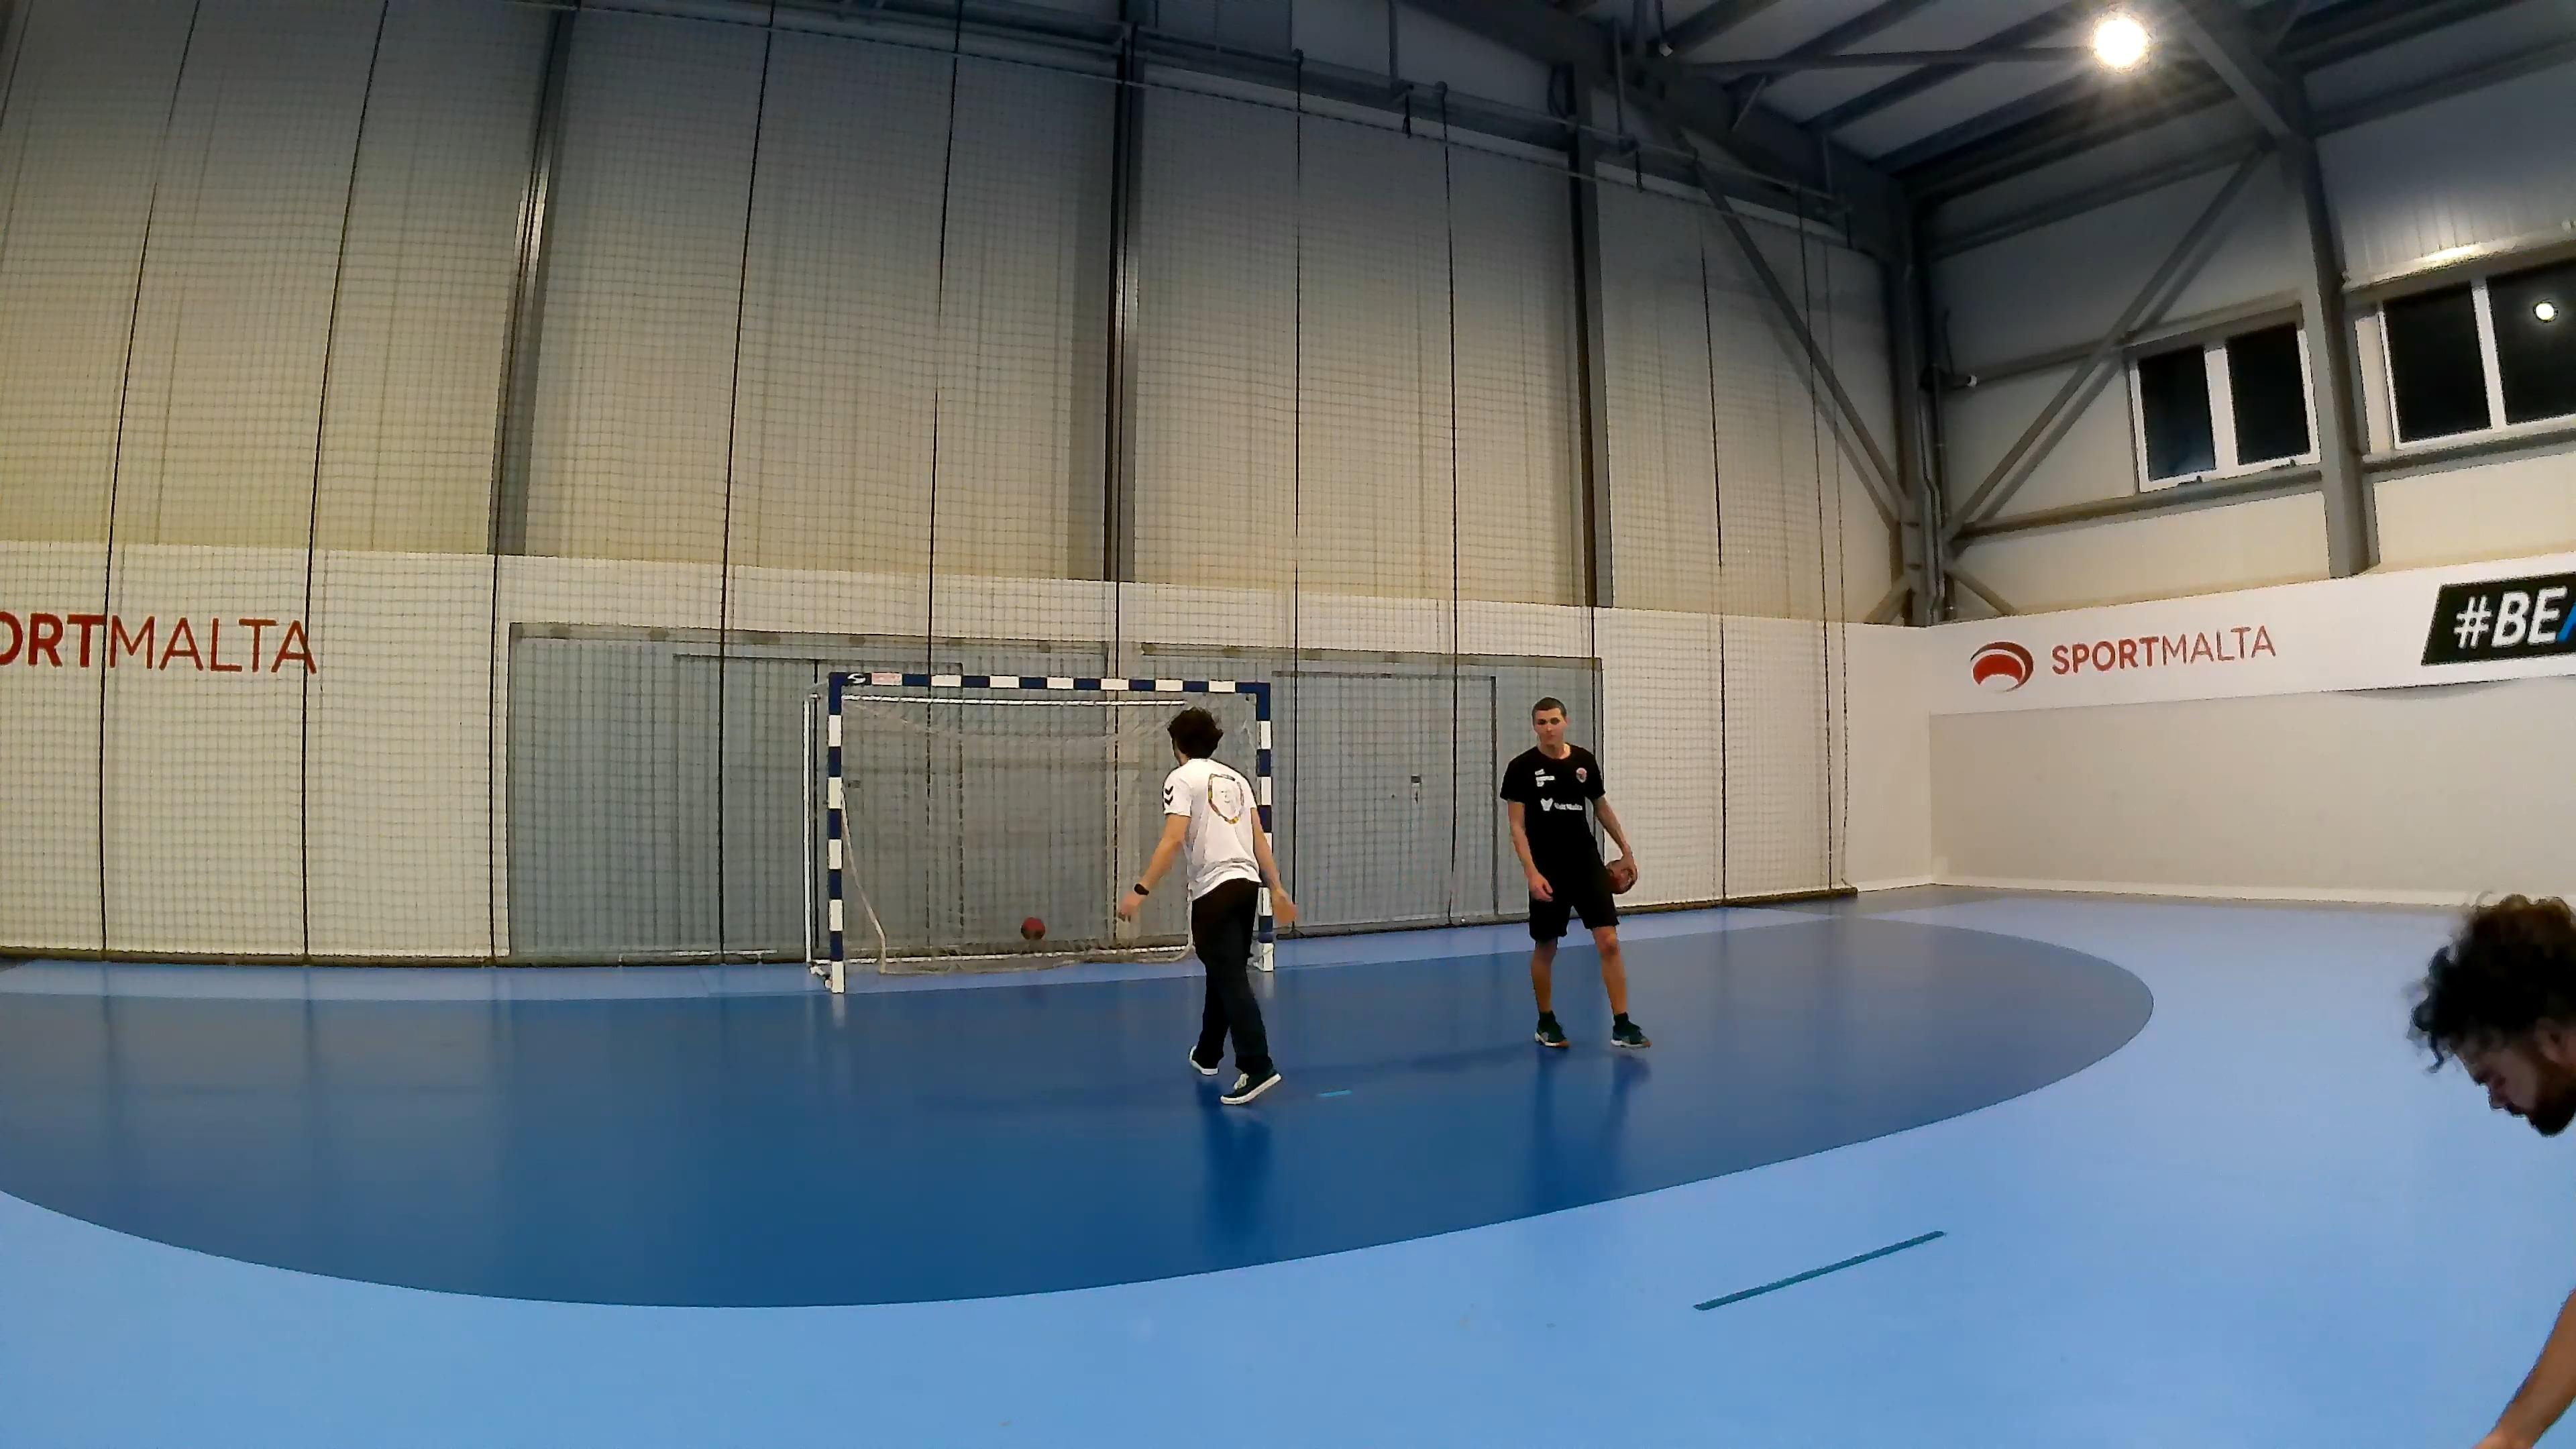handball: (1599, 849, 1638, 892), (1023, 913, 1047, 947)
